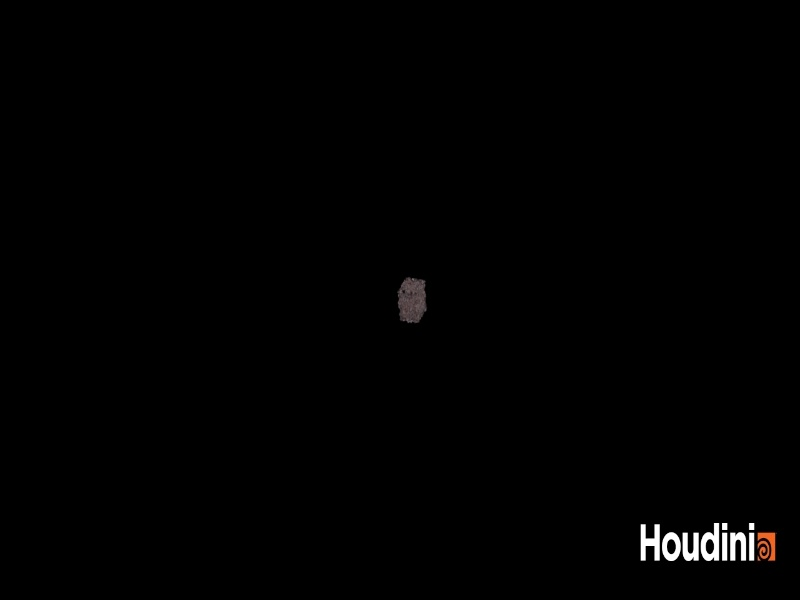waste: (390, 270, 438, 337)
